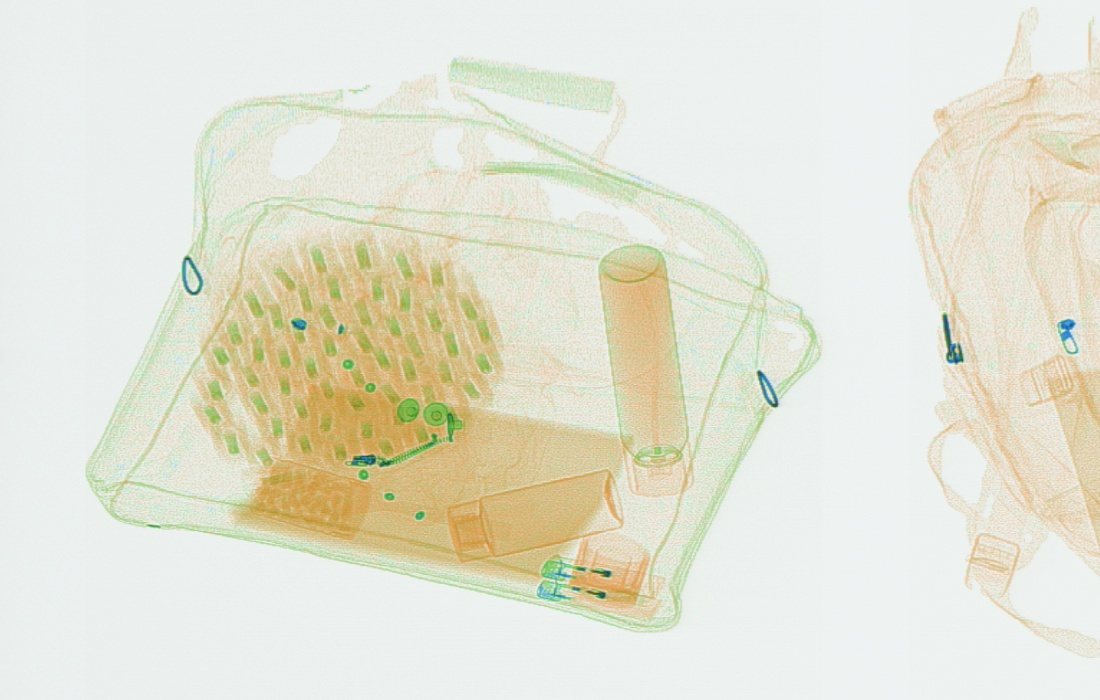firecrackers: (187, 223, 508, 489)
lighter: (538, 552, 669, 598), (534, 576, 661, 623)
